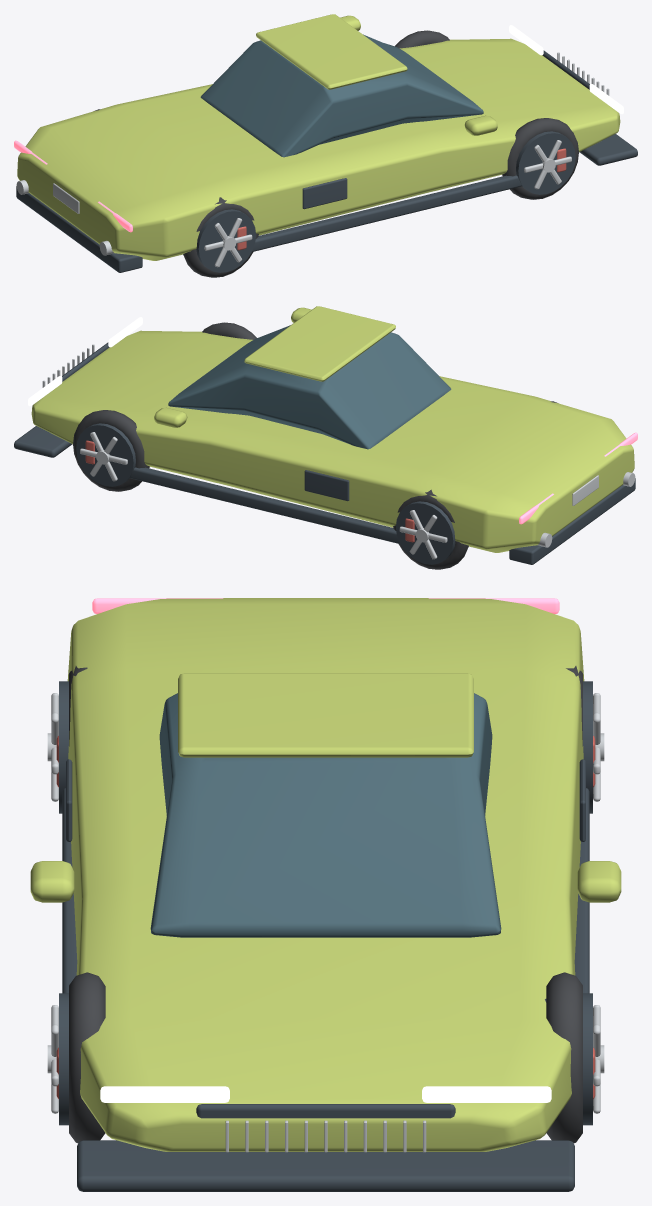
The model's file is SM_sup_mid.glb.
3 views of the same model, one above another, from view 1: azimuth 30°, elevation 25°; view 2: azimuth 150°, elevation 25°; view 3: azimuth 270°, elevation 25° (orthographic). The views are drawn at different scales.
Parts seen in each view (by area): view 1: SM_sup_mid; view 2: SM_sup_mid; view 3: SM_sup_mid.
Part boxes in pixels (<box>): SM_sup_mid: <box>14,14,637,277</box>; SM_sup_mid: <box>14,306,637,569</box>; SM_sup_mid: <box>30,598,621,1191</box>.
Bounding box in the file's own units: 4.56 × 1.18 × 2.23.
